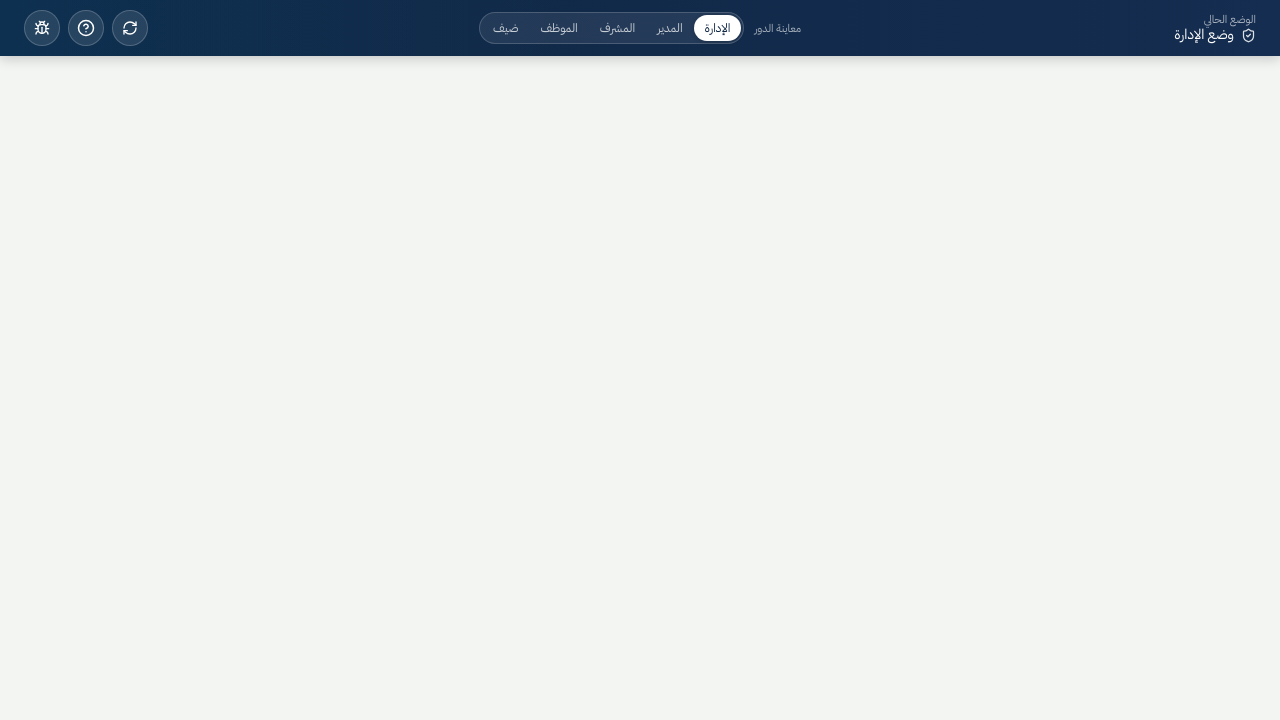
Scenario: AdminToolbar — admin-only debug tools › toggles the debug panel and the export button on/off, and the panel's close button toggles it back off
Click the button with class "auth-toolbar-debug". click: click(42, 28)
box: x1=24 y1=10 x2=60 y2=46
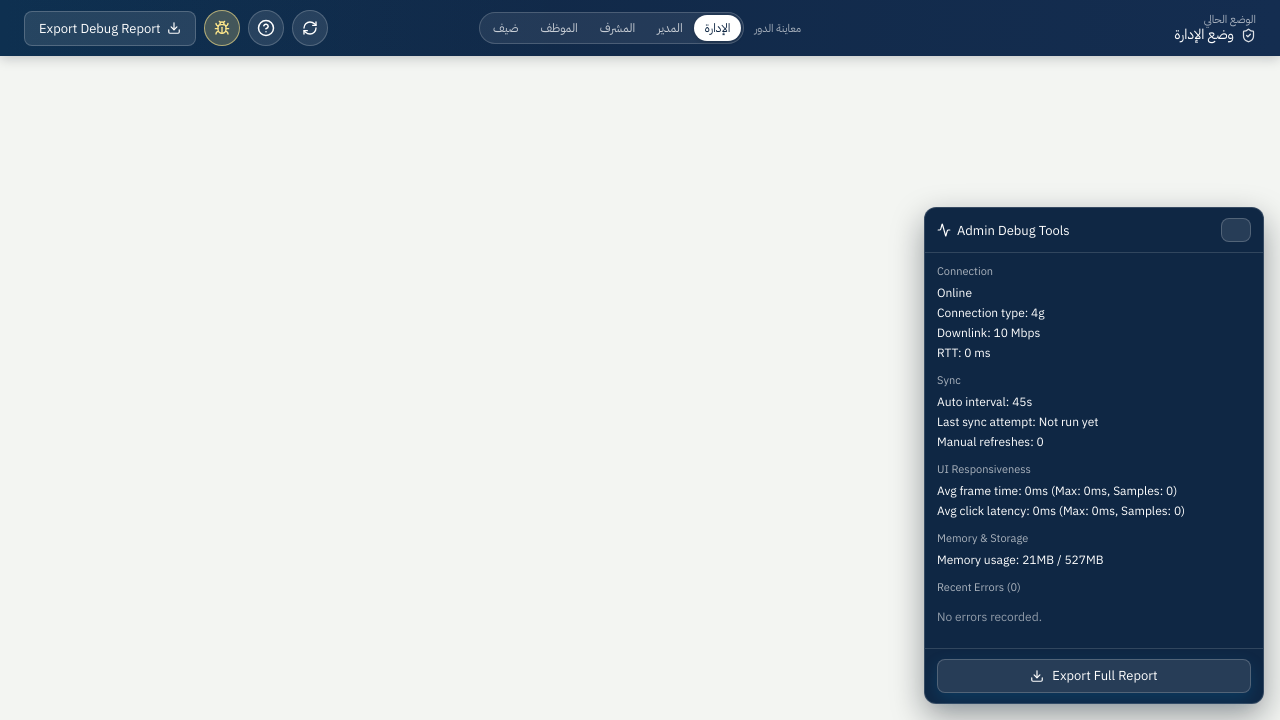
expect the element with class "demo-debug-panel" is shown: met, box x1=924 y1=208 x2=1264 y2=704
expect the button with class "auth-toolbar-debug-export" is shown: met, box x1=24 y1=10 x2=196 y2=46
Click the button with class "demo-debug-panel-close". click: click(1236, 230)
box: x1=1221 y1=218 x2=1251 y2=242
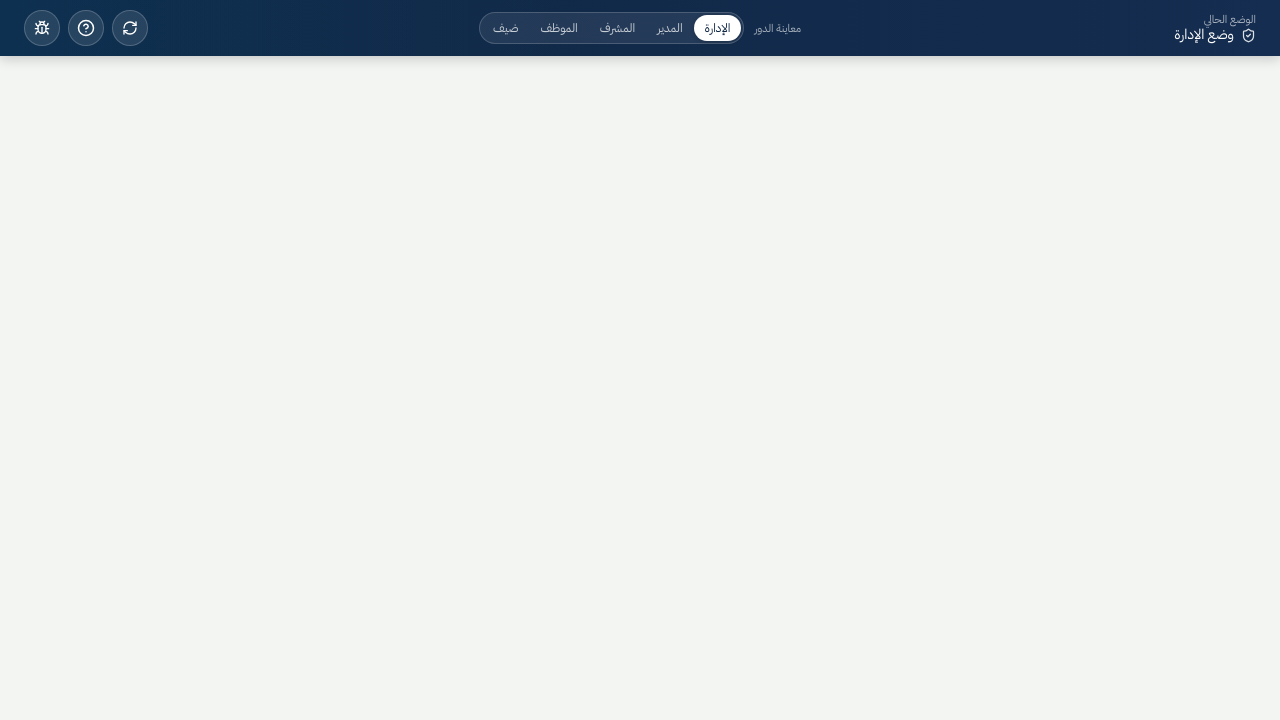
expect the element with class "demo-debug-panel" is gone: met
expect the button with class "auth-toolbar-debug-export" is gone: met
